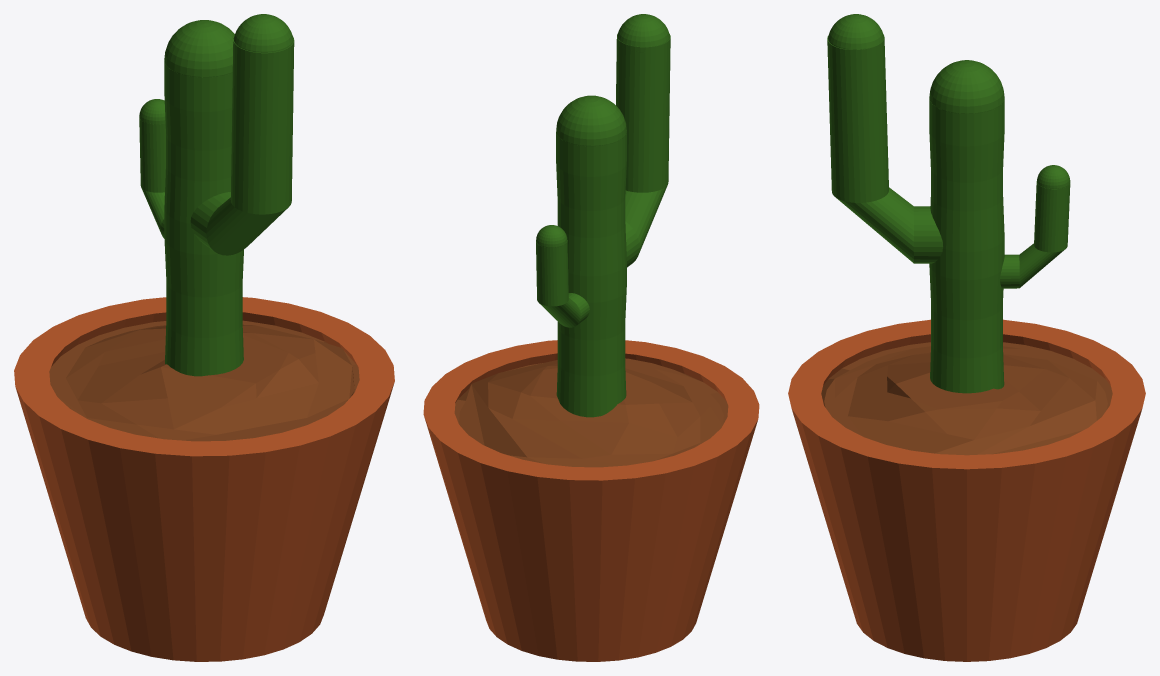
Rendered from potModel2.fbx.
3 renders of one model, left to right at view 1: azimuth 30°, elevation 25°; view 2: azimuth 150°, elevation 25°; view 3: azimuth 270°, elevation 25°, orthographic. The views are drawn at different scales.
Parts seen in each view (by area): view 1: pots, MainBranch, Cylinder.002, Sphere, Cylinder.001, Sphere.001, Sphere.002; view 2: pots, MainBranch, Cylinder.002, Sphere, Cylinder.001, Sphere.001, Sphere.002; view 3: pots, MainBranch, Cylinder.002, Cylinder.001, Sphere, Sphere.001, Sphere.002.
Part boxes in pixels (<box>): pots: <box>14,297,394,661</box>; MainBranch: <box>164,60,243,376</box>; Cylinder.002: <box>190,36,294,255</box>; Sphere: <box>164,20,234,77</box>; Cylinder.001: <box>139,118,165,238</box>; Sphere.001: <box>233,14,293,52</box>; Sphere.002: <box>139,99,165,124</box>; pots: <box>423,340,759,661</box>; MainBranch: <box>556,130,626,417</box>; Cylinder.002: <box>616,34,670,267</box>; Sphere: <box>556,95,626,146</box>; Cylinder.001: <box>536,240,589,327</box>; Sphere.001: <box>617,14,669,52</box>; Sphere.002: <box>536,225,567,247</box>; pots: <box>788,319,1145,661</box>; MainBranch: <box>929,99,1004,393</box>; Cylinder.002: <box>827,34,942,263</box>; Cylinder.001: <box>1000,181,1070,288</box>; Sphere: <box>929,60,1004,113</box>; Sphere.001: <box>828,14,883,49</box>; Sphere.002: <box>1037,165,1070,188</box>.
Bounding box in the file's own units: 9.5 × 9.5 × 17.52.
